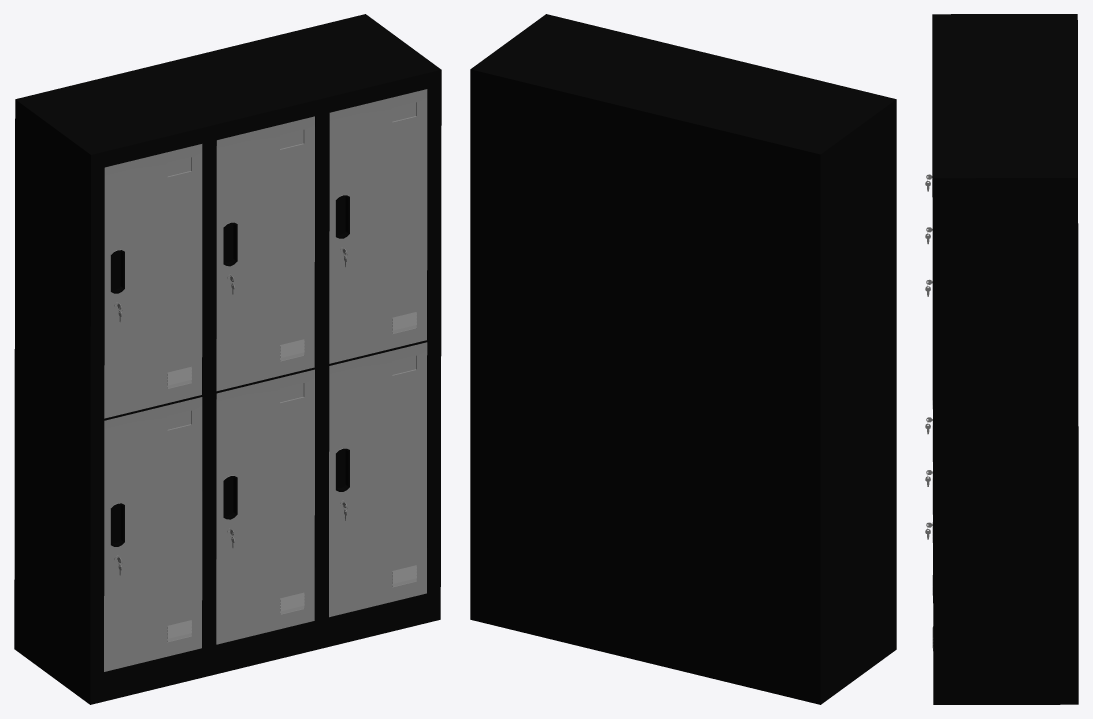
File: Prop_MultiLocker_Grey.fbx
The picture shows the model from 3 angles, left to right: view 1: azimuth 30°, elevation 25°; view 2: azimuth 150°, elevation 25°; view 3: azimuth 270°, elevation 25°; orthographic projection. The views are drawn at different scales.
Visible parts, largest first — view 1: Locker; view 2: Locker; view 3: Locker.
Part boxes in pixels (x1,y1,x2,y2): Locker: (14, 14, 441, 704); Locker: (470, 14, 896, 704); Locker: (925, 14, 1078, 704).
Size of the model in its own units: 200 by 300 by 79.12.
